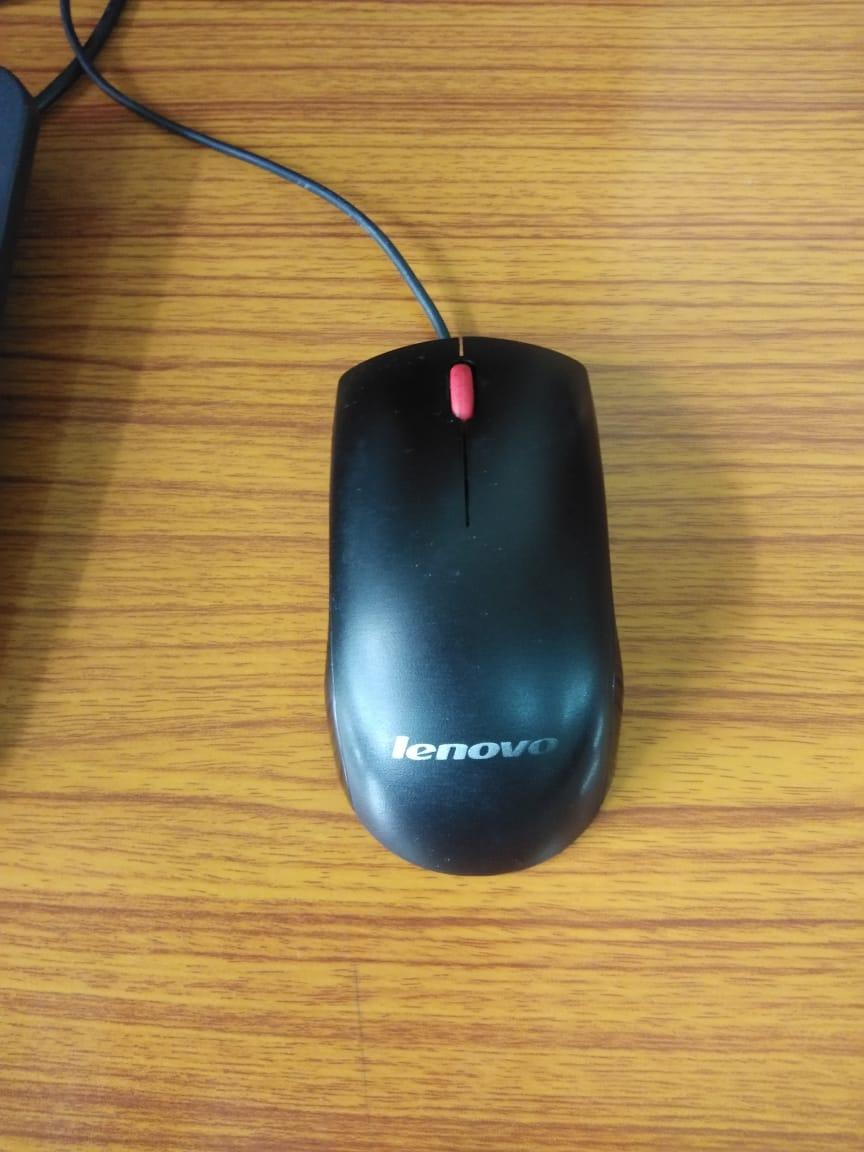mouse: (285, 298, 671, 950)
